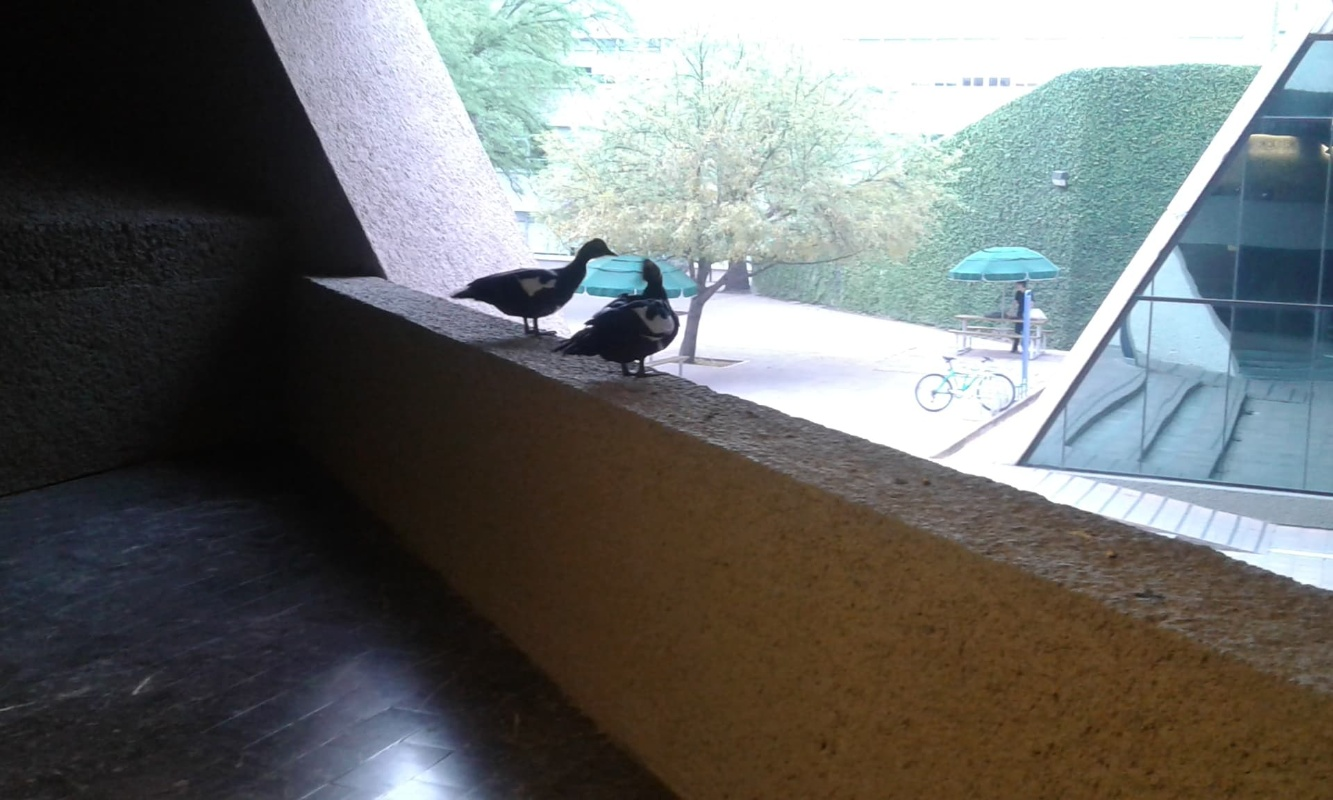pato: (568, 261, 677, 388), (466, 235, 613, 312)
